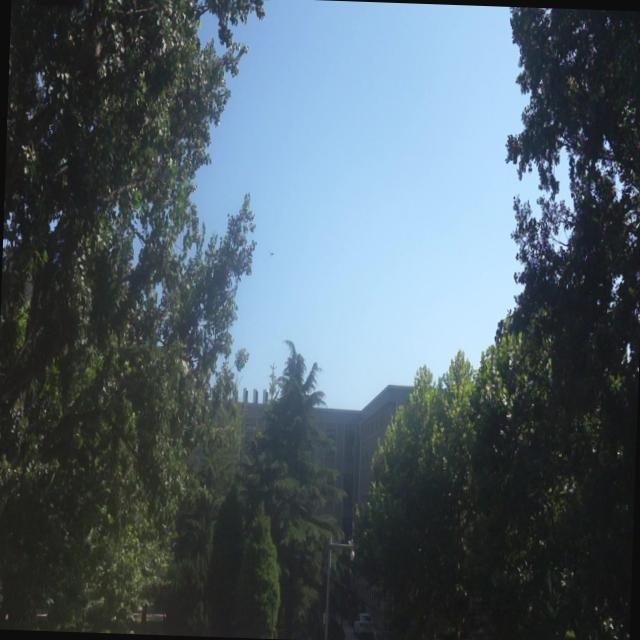drone: (266, 244, 278, 264)
